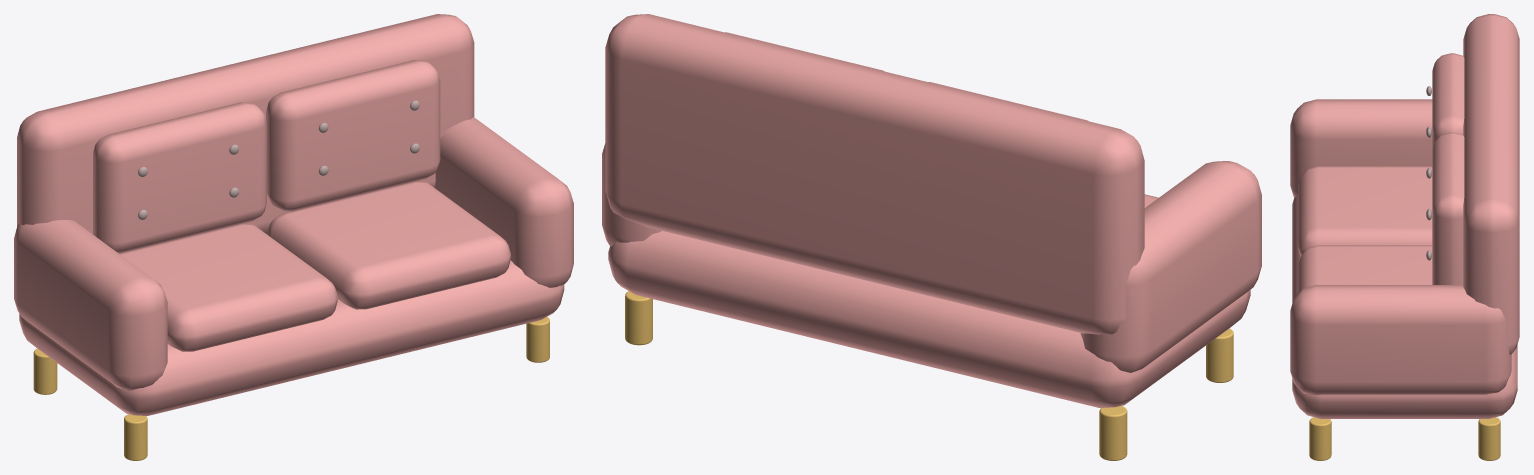
The model's file is sofaRoseTufted.glb.
3 renders of one model, left to right at view 1: azimuth 30°, elevation 25°; view 2: azimuth 150°, elevation 25°; view 3: azimuth 270°, elevation 25°, orthographic. The views are drawn at different scales.
Visible parts, largest first — view 1: Sofa back, Upholstered base, Back cushion.001, Back cushion, Seat cushion.001, Rolled arm, Seat cushion, Rolled arm.001, Furniture foot, Furniture foot.002, Furniture foot.001; view 2: Sofa back, Upholstered base, Rolled arm, Furniture foot.001, Rolled arm.001, Furniture foot.003, Furniture foot; view 3: Rolled arm.001, Sofa back, Seat cushion, Rolled arm, Upholstered base, Seat cushion.001, Back cushion.001, Back cushion, Furniture foot.002, Furniture foot.003.
Boxes of the visible parts, left/top/right/bottom form: Sofa back: left=17, top=14, right=474, bottom=234; Upholstered base: left=19, top=260, right=564, bottom=415; Back cushion.001: left=266, top=60, right=440, bottom=211; Back cushion: left=93, top=102, right=266, bottom=253; Seat cushion.001: left=267, top=181, right=510, bottom=309; Rolled arm: left=14, top=220, right=167, bottom=391; Seat cushion: left=119, top=224, right=337, bottom=351; Rolled arm.001: left=434, top=117, right=573, bottom=287; Furniture foot: left=124, top=414, right=147, bottom=460; Furniture foot.002: left=526, top=317, right=549, bottom=362; Furniture foot.001: left=33, top=348, right=57, bottom=394; Sofa back: left=605, top=14, right=1144, bottom=334; Upholstered base: left=608, top=231, right=1250, bottom=407; Rolled arm: left=1080, top=161, right=1261, bottom=372; Furniture foot.001: left=1099, top=406, right=1127, bottom=460; Rolled arm.001: left=602, top=143, right=661, bottom=246; Furniture foot.003: left=625, top=291, right=652, bottom=345; Furniture foot: left=1206, top=328, right=1233, bottom=382; Rolled arm.001: left=1290, top=285, right=1511, bottom=395; Sofa back: left=1463, top=14, right=1519, bottom=354; Seat cushion: left=1298, top=166, right=1432, bottom=256; Rolled arm: left=1290, top=99, right=1432, bottom=197; Upholstered base: left=1292, top=195, right=1517, bottom=418; Seat cushion.001: left=1298, top=245, right=1432, bottom=292; Back cushion.001: left=1432, top=132, right=1464, bottom=284; Back cushion: left=1432, top=53, right=1464, bottom=148; Furniture foot.002: left=1309, top=417, right=1331, bottom=460; Furniture foot.003: left=1478, top=417, right=1500, bottom=460.
Size of the model in its own units: 2.48 by 1.41 by 1.14.
